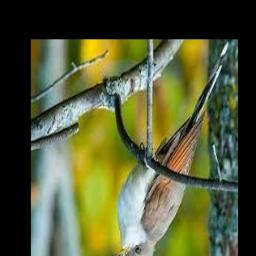Cuckoo: (116, 39, 231, 256)
